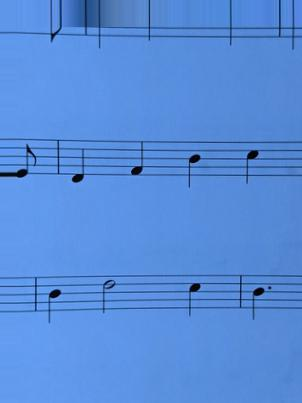note: (120, 134, 148, 190), (41, 268, 65, 328), (237, 136, 264, 188), (67, 132, 90, 190), (181, 269, 205, 320), (184, 134, 205, 190), (247, 270, 267, 328)
